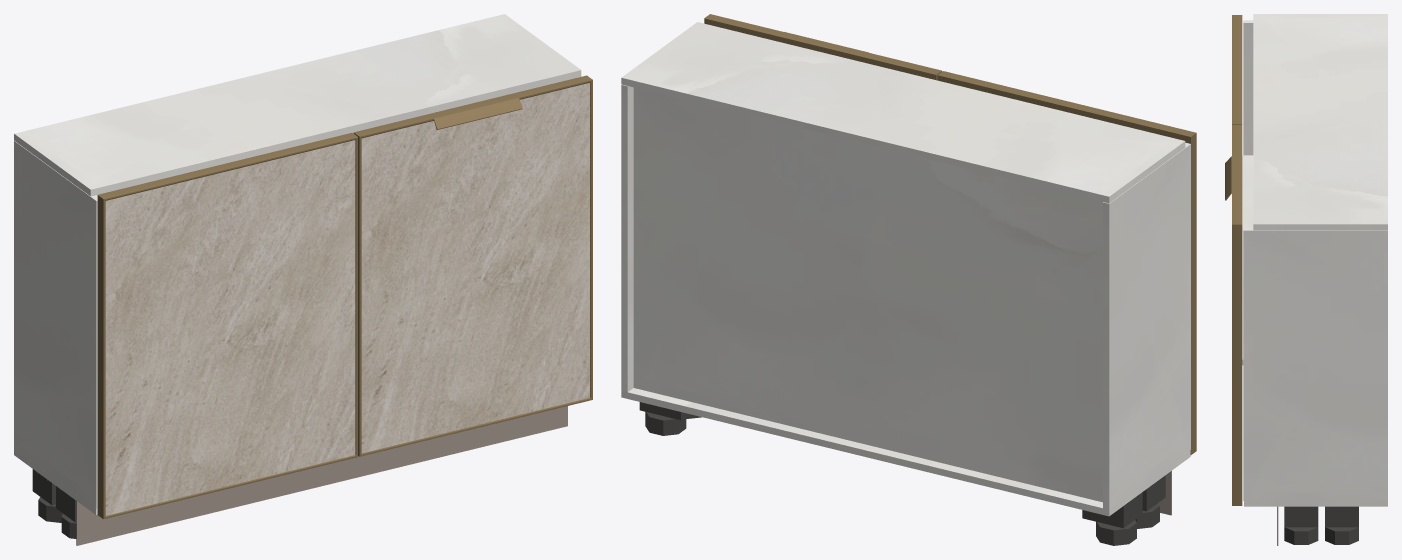
Rendered from BBL-SH-TTS-ST-1SX-LHS-XXX-1150-720-336-15.glb.
3 views of the same model, side by side, from view 1: azimuth 30°, elevation 25°; view 2: azimuth 150°, elevation 25°; view 3: azimuth 270°, elevation 25° (orthographic). The views are drawn at different scales.
Parts seen in each view (by area): view 1: Object_node_12, Object_node_14, TP_node_1, TP_node, Object_node_16, Extrusion_node_1, Extrusion, ExtrSplGeo, Extrusion_node_8, Extrusion_node_6, Extrusion_node, Extrusion_node_0 (+1 smaller); view 2: TP_node_3, TP_node_1, TP_node, TP, TP_node_0, Extrusion, Extrusion_node_1, ExtrSplGeo, Plate, Extrusion_node_5, Extrusion_node_4, Foot (+1 smaller); view 3: TP_node_0, TP_node_1, Extrusion_node_6, TP_node, Extrusion, TP_node_2, TP, Plate_node_1, Plate_node, ExtrSplGeo, Foot_node_1, Foot_node (+2 smaller).
Boxes of the visible parts, x1,y1,x2,y2 form: Object_node_12: (105,140,355,515); Object_node_14: (361,83,589,453); TP_node_1: (14,14,581,196); TP_node: (14,141,97,508); Object_node_16: (76,406,567,545); Extrusion_node_1: (97,195,105,518); Extrusion: (98,133,357,200); ExtrSplGeo: (428,93,522,129); Extrusion_node_8: (353,133,361,456); Extrusion_node_6: (590,80,592,399); Extrusion_node: (355,138,357,456); Extrusion_node_0: (104,455,357,518); TP_node_3: (633,87,1102,502); TP_node_1: (621,22,1185,203); TP_node: (1103,142,1190,509); TP: (621,388,1190,516); TP_node_0: (621,84,633,392); Extrusion: (937,71,1196,140); Extrusion_node_1: (1185,133,1196,454); ExtrSplGeo: (778,32,868,61); Plate: (1082,492,1142,528); Extrusion_node_5: (862,52,941,78); Extrusion_node_4: (704,14,782,41); Foot: (1096,520,1136,545); TP_node_0: (1243,228,1387,500); TP_node_1: (1253,14,1387,230); Extrusion_node_6: (1232,224,1242,505); TP_node: (1243,20,1253,155); Extrusion: (1232,15,1242,123); TP_node_2: (1242,155,1253,365); TP: (1244,501,1387,506); Plate_node_1: (1284,506,1318,527); Plate_node: (1325,506,1358,527); ExtrSplGeo: (1225,156,1242,200); Foot_node_1: (1284,527,1318,544); Foot_node: (1325,527,1358,544).
Size of what is drawn, in the model's own units: 1.15 by 0.82 by 0.376.
Materials: 6 (3 with a texture image).
